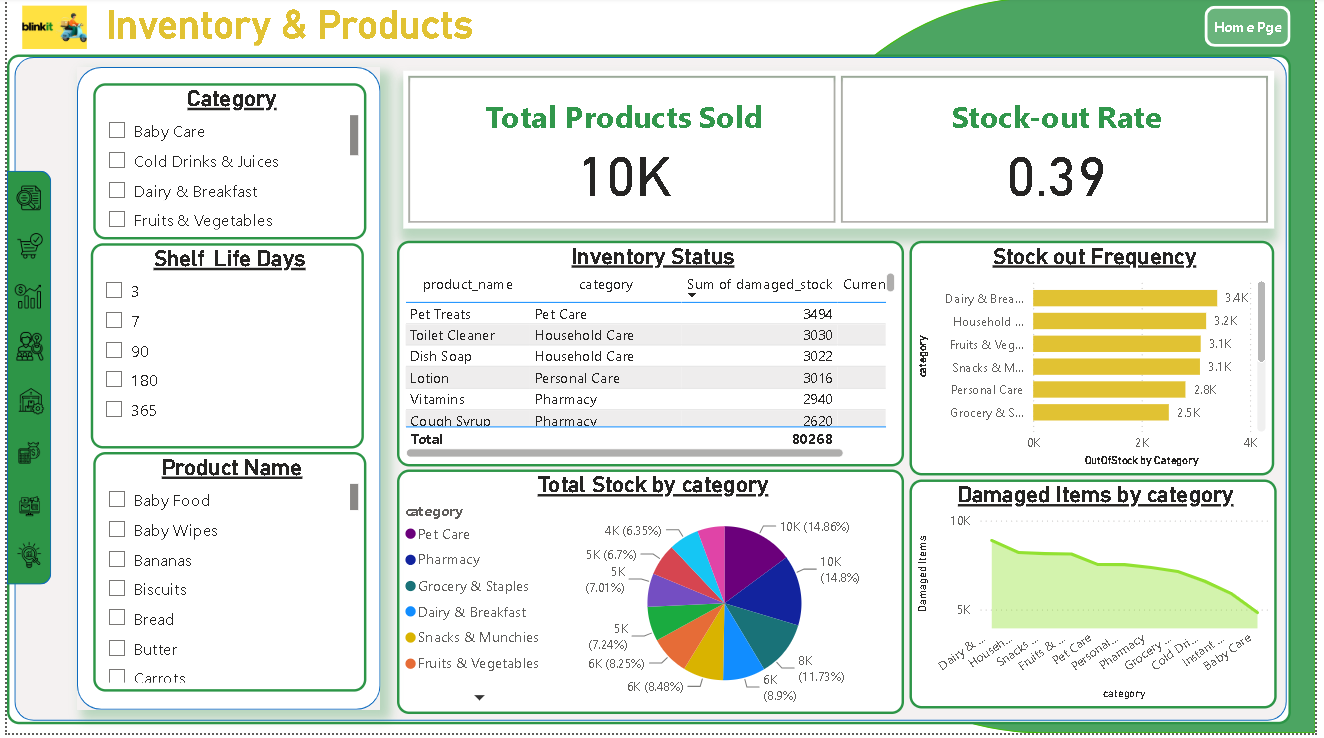

The page's visual inventory and layout, read from the dashboard file:
{"tool":"powerbi","page":{"name":"Inventory& Products","canvas":[1280,720],"ordinal":5},"visuals":[{"type":"shape","box":[740.7,0,539.3,720.2],"z":0},{"type":"shape","box":[68.9,68.6,296.9,628.9],"z":0,"group":"g2"},{"type":"image","box":[6.1,3.7,80.7,52.6],"z":1000},{"type":"slicer","title":"Shelf_Life Days","fields":{"Values":["blinkit_products.shelf_life_days"]},"box":[82.7,241.5,266.8,200.4],"z":1000,"group":"g2"},{"type":"shape","box":[0,56.3,1255.8,655.4],"z":2000},{"type":"slicer","title":"Product Name","fields":{"Values":["blinkit_products.product_name"]},"box":[85.2,445.7,266.8,234.3],"z":2000,"group":"g2"},{"type":"textbox","title":"Inventory & Products","box":[91.7,3.7,386.4,52.6],"z":3000},{"type":"slicer","title":"Category","fields":{"Values":["blinkit_products.category"]},"box":[85.2,84.9,266.8,152.8],"z":3000,"group":"g2"},{"type":"cardVisual","fields":{"Data":["blinkit_customer_feedback.Total Products Sold","blinkit_customer_feedback.Stock-out Rate"]},"box":[387.1,72.7,851.8,154.1],"z":4000},{"type":"barChart","title":"Stock out Frequency","fields":{"Category":["blinkit_products.category"],"Y":["blinkit_customer_feedback.OutOfStock by Category"]},"box":[883.2,238,357,229.2],"z":5000},{"type":"tableEx","title":"Inventory Status","fields":{"Values":["blinkit_products.product_name","blinkit_products.category","Sum(blinkit_inventory.damaged_stock)","blinkit_customer_feedback.Current Stock"]},"box":[382.1,238,496.1,220.5],"z":6000},{"type":"group","id":"g1","title":"Group 1","box":[0,170,46.5,404.8],"z":7000},{"type":"shape","box":[0,170,43.2,404.8],"z":7000,"group":"g1"},{"type":"pieChart","fields":{"Category":["blinkit_products.category"],"Y":["blinkit_customer_feedback.Total Stock"]},"box":[382.1,462.2,496.1,239.3],"z":8000},{"type":"image","box":[0.8,179.2,40,34],"z":9000,"group":"g1"},{"type":"areaChart","fields":{"Category":["blinkit_products.category"],"Y":["blinkit_customer_feedback.Damaged Items"]},"box":[883.2,472.3,359.5,224.2],"z":9000},{"type":"group","id":"g2","title":"Group 2","box":[68.9,68.6,296.9,628.9],"z":10000},{"type":"image","box":[0.8,226.5,42.1,34.8],"z":10000,"group":"g1"},{"type":"shape","box":[1171.5,8.6,84.4,40.4],"z":11000},{"type":"image","box":[0.8,274.6,38.9,35.7],"z":11000,"group":"g1"},{"type":"image","box":[0.8,322.7,42.1,38.2],"z":12000,"group":"g1"},{"type":"image","box":[0.8,377.4,45.4,35.7],"z":13000,"group":"g1"},{"type":"image","box":[0.8,430.5,41.1,31.5],"z":14000,"group":"g1"},{"type":"image","box":[0.8,483.6,42.1,30.7],"z":15000,"group":"g1"},{"type":"image","box":[1.9,528.4,38.9,35.7],"z":16000,"group":"g1"}]}

Visuals, with their boxes in screenshot pixels (x1, y1, x2, y2), scaled from the page's 1280x720 canvas onto the 1324x738 screenshot:
shape: {"left": 766, "top": 0, "right": 1323, "bottom": 737}
shape: {"left": 71, "top": 70, "right": 378, "bottom": 715}
image: {"left": 6, "top": 4, "right": 90, "bottom": 58}
"Shelf_Life Days" slicer: {"left": 86, "top": 248, "right": 362, "bottom": 453}
shape: {"left": 0, "top": 58, "right": 1299, "bottom": 729}
"Product Name" slicer: {"left": 88, "top": 457, "right": 364, "bottom": 697}
"Inventory & Products" textbox: {"left": 95, "top": 4, "right": 495, "bottom": 58}
"Category" slicer: {"left": 88, "top": 87, "right": 364, "bottom": 244}
cardVisual - blinkit_customer_feedback.Total Products Sold x blinkit_customer_feedback.Stock-out Rate: {"left": 400, "top": 75, "right": 1281, "bottom": 232}
"Stock out Frequency" barChart: {"left": 914, "top": 244, "right": 1283, "bottom": 479}
"Inventory Status" tableEx: {"left": 395, "top": 244, "right": 908, "bottom": 470}
"Group 1" group: {"left": 0, "top": 174, "right": 48, "bottom": 589}
shape: {"left": 0, "top": 174, "right": 45, "bottom": 589}
pieChart - blinkit_products.category x blinkit_customer_feedback.Total Stock: {"left": 395, "top": 474, "right": 908, "bottom": 719}
image: {"left": 1, "top": 184, "right": 42, "bottom": 219}
areaChart - blinkit_products.category x blinkit_customer_feedback.Damaged Items: {"left": 914, "top": 484, "right": 1285, "bottom": 714}
"Group 2" group: {"left": 71, "top": 70, "right": 378, "bottom": 715}
image: {"left": 1, "top": 232, "right": 44, "bottom": 268}
shape: {"left": 1212, "top": 9, "right": 1299, "bottom": 50}
image: {"left": 1, "top": 281, "right": 41, "bottom": 318}
image: {"left": 1, "top": 331, "right": 44, "bottom": 370}
image: {"left": 1, "top": 387, "right": 48, "bottom": 423}
image: {"left": 1, "top": 441, "right": 43, "bottom": 474}
image: {"left": 1, "top": 496, "right": 44, "bottom": 527}
image: {"left": 2, "top": 542, "right": 42, "bottom": 578}
